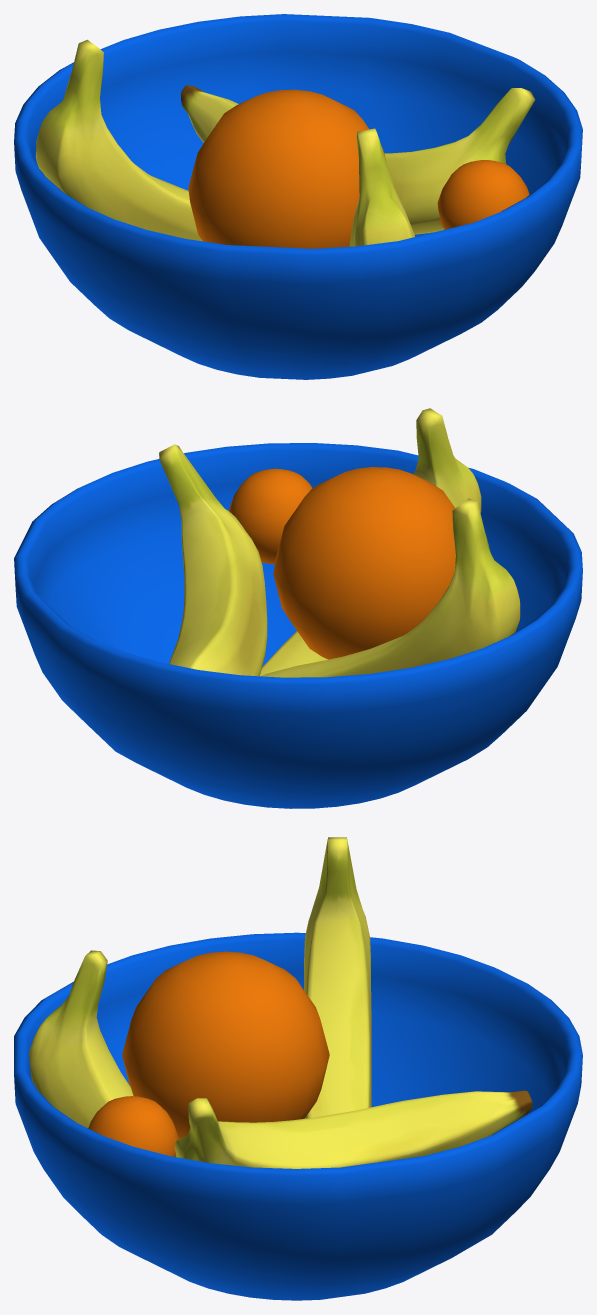
The model's file is BolFruitsFBX.fbx.
3 renders of one model, top to bottom at view 1: azimuth 30°, elevation 25°; view 2: azimuth 150°, elevation 25°; view 3: azimuth 270°, elevation 25°, orthographic.
Visible parts, largest first — view 1: Bol_fruits, Orange1, Banane, Banane2, Banane1, Orange; view 2: Bol_fruits, Orange1, Banane2, Banane, Banane1, Orange; view 3: Bol_fruits, Orange1, Banane2, Banane, Banane1, Orange.
Boxes of the visible parts, x1,y1,x2,y2 form: Bol_fruits: (14,14,582,379); Orange1: (188,89,385,248); Banane: (36,39,202,241); Banane2: (180,85,535,234); Banane1: (349,128,414,246); Orange: (437,160,529,229); Bol_fruits: (14,443,582,808); Orange1: (273,467,455,659); Banane2: (159,444,267,676); Banane: (261,498,520,677); Banane1: (260,408,481,676); Orange: (229,468,312,564); Bol_fruits: (14,932,582,1300); Orange1: (122,951,329,1138); Banane2: (174,1090,532,1168); Banane: (304,837,371,1118); Banane1: (29,950,133,1127); Orange: (88,1096,178,1156).
Size of the model in its own units: 1.27 by 0.8182 by 1.27.
3 materials, 1 textured.
